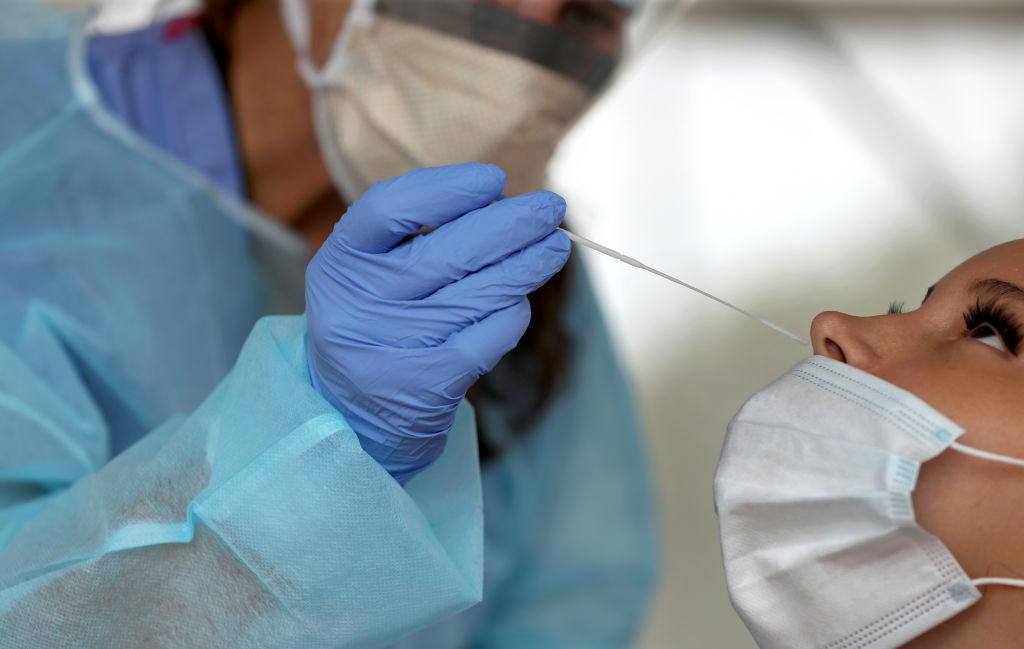Gloves: (291, 154, 573, 506)
mask_weared_incorrect: (707, 254, 1019, 649)
